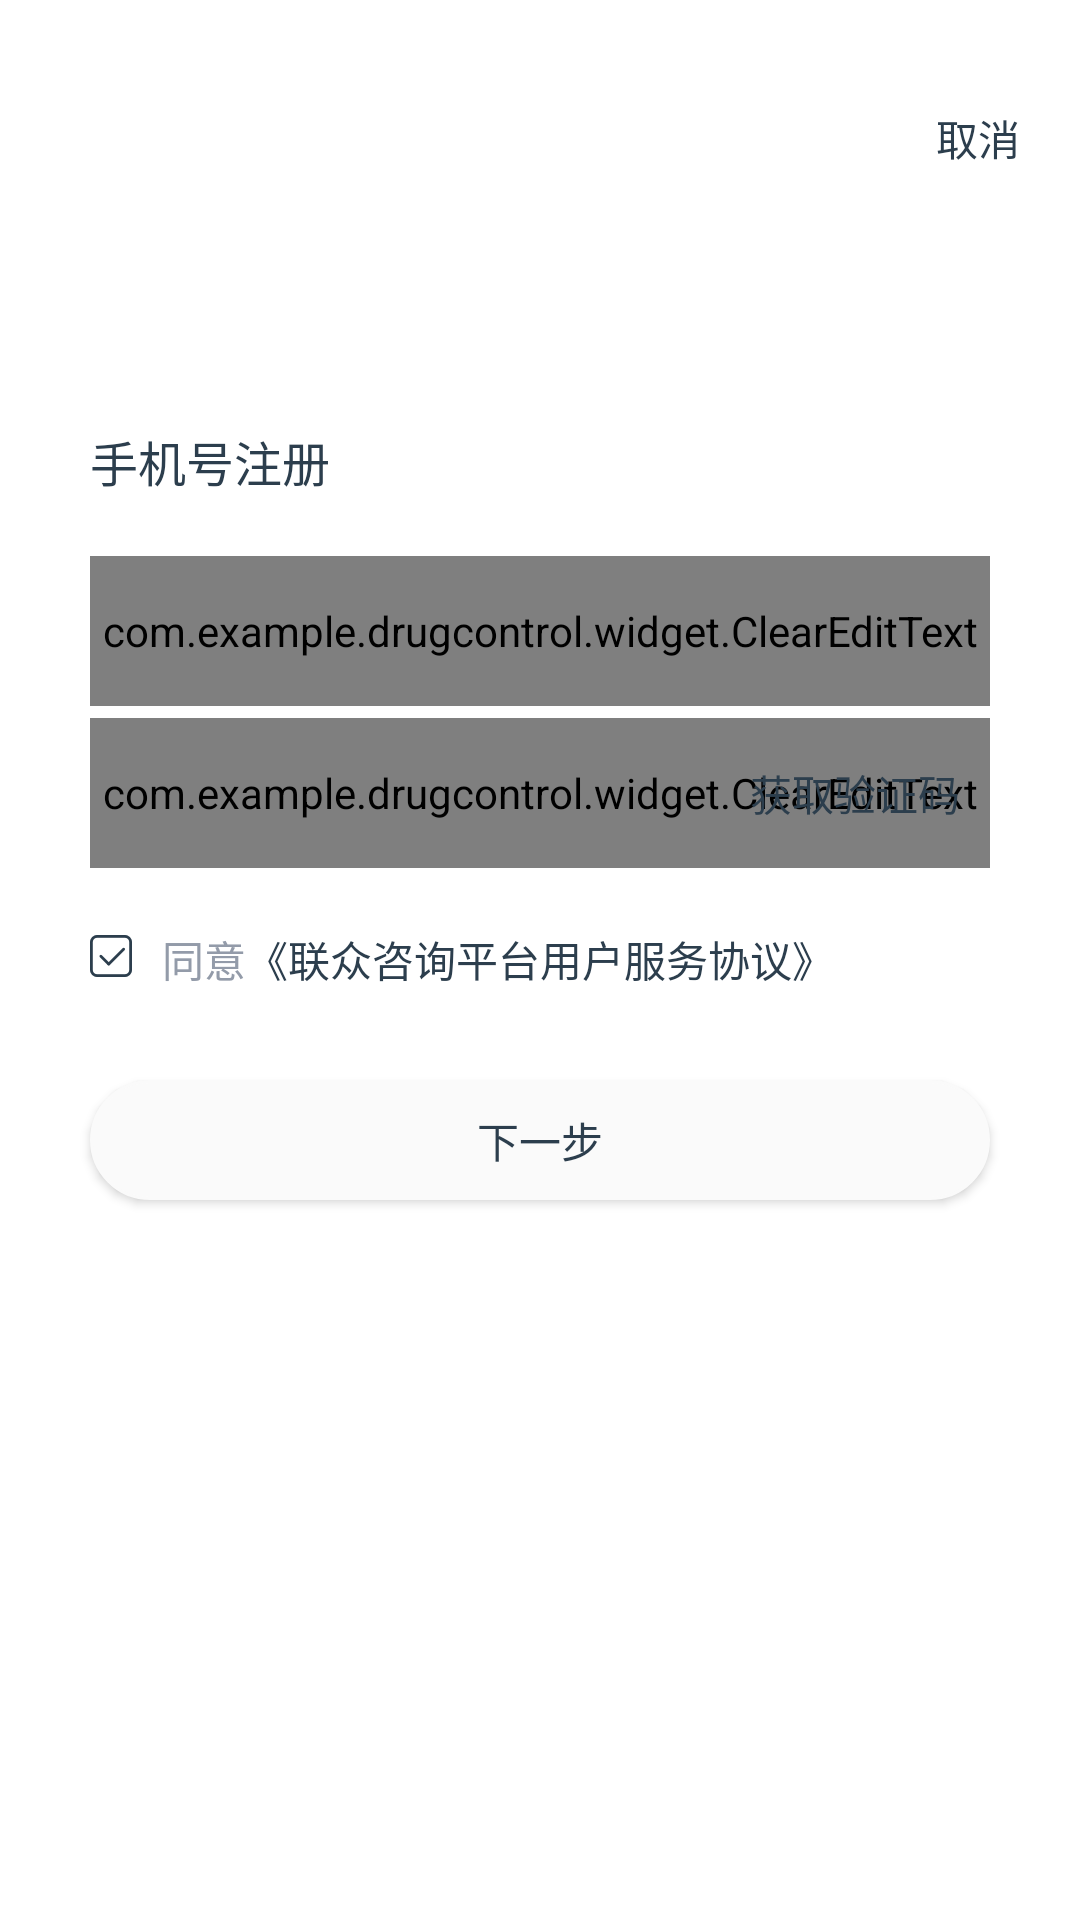

Icons on this 1080w x 1920h Android screen, each with its box as (x1, y1, x2, y2):
check box custom protocol: (90, 935, 132, 977)
